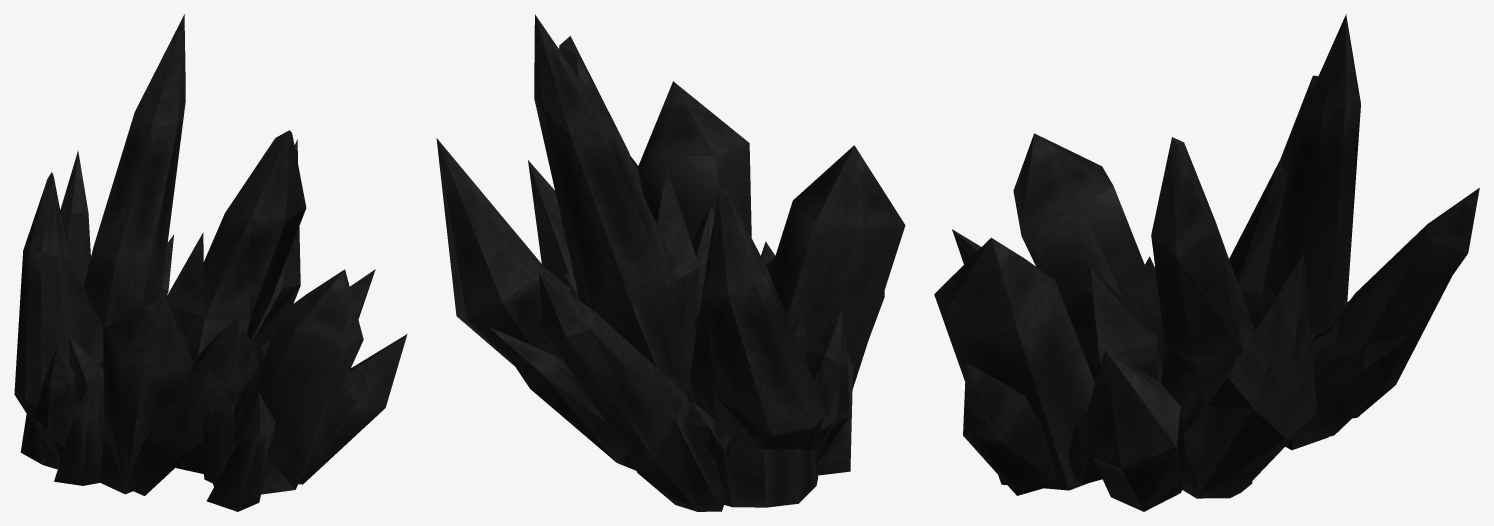
File: crystallarge_00.fbx
3 views of the same model, side by side, from view 1: azimuth 30°, elevation 25°; view 2: azimuth 150°, elevation 25°; view 3: azimuth 270°, elevation 25° (orthographic). The views are drawn at different scales.
Parts seen in each view (by area): view 1: Geoset_0; view 2: Geoset_0; view 3: Geoset_0.
Boxes of the visible parts, box(x1,y1,x2,y2) form: Geoset_0: box(14, 14, 407, 511); Geoset_0: box(436, 14, 905, 511); Geoset_0: box(934, 14, 1479, 511).
Bounding box in the file's own units: 3.78 × 4.57 × 4.64.
1 material, 1 textured.
